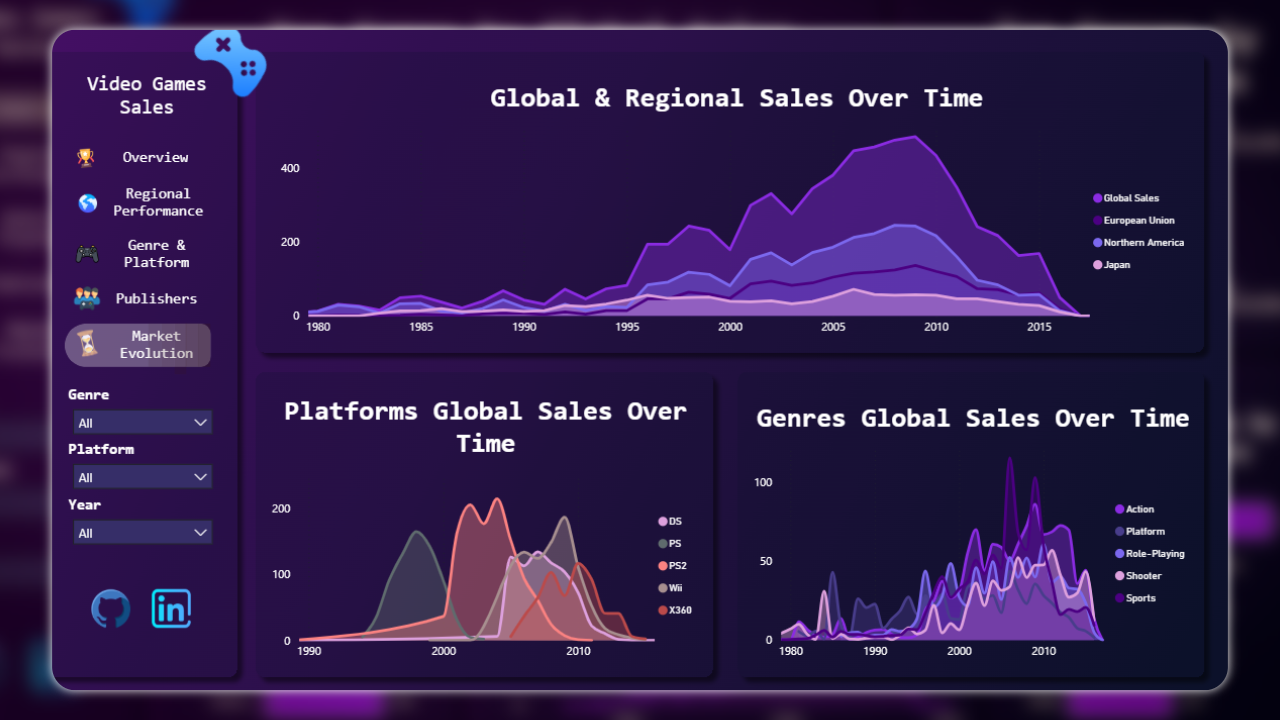

The page's visual inventory and layout, read from the dashboard file:
{"tool":"powerbi","page":{"name":"Market Evolution","canvas":[1280,720],"ordinal":4},"visuals":[{"type":"shape","box":[10.3,25.8,188.4,94.2],"z":4000},{"type":"image","box":[11,109.1,54.2,64.5],"z":5000},{"type":"shape","box":[33.5,301.9,161.3,80],"z":5500},{"type":"image","box":[9,309.7,61.9,61.9],"z":5750},{"type":"shape","box":[32.9,109.1,161.3,60.6],"z":6000},{"type":"shape","box":[0,304.5,188.4,77.4],"z":7000},{"type":"shape","box":[144.5,304.5,43.9,77.4],"z":8000},{"type":"shape","box":[130.9,304.5,43.6,77.5],"z":9000},{"type":"shape","box":[118.7,304.5,42.6,85.2],"z":10000},{"type":"shape","box":[104.5,304.5,43.9,77.4],"z":11000},{"type":"shape","box":[90.3,304.5,43.9,77.4],"z":12000},{"type":"image","box":[14.2,165.2,51.6,50.3],"z":14000},{"type":"shape","box":[33.5,149.7,165.2,78.7],"z":15000},{"type":"shape","box":[33.5,205.2,161.3,77.4],"z":16000},{"type":"shape","box":[33.5,262.2,161.5,61.1],"z":17000},{"type":"image","box":[11.6,215.5,55.5,59.4],"z":19000},{"type":"image","box":[10.3,261.9,59.4,60.6],"z":20000},{"type":"slicer","title":"Genre","fields":{"Values":["vgsales.Genre"]},"box":[14.2,386.7,165.7,58.4],"z":22000},{"type":"slicer","title":"Platform","fields":{"Values":["vgsales.Platform"]},"box":[14.2,445.1,165.7,60],"z":23000},{"type":"slicer","title":"Year","fields":{"Values":["vgsales.Year"]},"box":[14.2,505.1,165.7,60],"z":24000},{"type":"image","box":[88.4,591.4,84,72],"z":25000},{"type":"image","box":[25.1,591.4,80.8,72],"z":26000},{"type":"actionButton","box":[16.8,165.2,165.2,50.3],"z":27000},{"type":"actionButton","box":[14.2,219.4,165.2,50.3],"z":28000},{"type":"actionButton","box":[12.9,267.1,165.2,50.3],"z":29000},{"type":"actionButton","box":[21.8,115.7,164.8,50.2],"z":30000},{"type":"areaChart","title":"Global & Regional Sales Over Time","fields":{"Category":["vgsales.Year"],"Y":["vgsales.Total Global Sales","Sum(vgsales.European Union Saels)","Sum(vgsales.Northern America Sales)","Sum(vgsales.Japan Sales)"]},"box":[233.5,43.6,1015.9,307.7],"z":30001},{"type":"areaChart","title":"Genres Global Sales Over Time","fields":{"Category":["vgsales.Year"],"Y":["vgsales.Total Global Sales"],"Series":["vgsales.Genre"]},"box":[744.2,389.6,505.2,312.1],"z":30002},{"type":"areaChart","title":"Platforms Global Sales Over Time","fields":{"Category":["vgsales.Year"],"Y":["vgsales.Total Global Sales"],"Series":["vgsales.Platform"]},"box":[223.2,381.9,492.9,320],"z":30003}]}

Visuals, with their boxes in screenshot pixels (x1, y1, x2, y2), scaled from the page's 1280x720 canvas onto the 1280x720 screenshot:
shape: [10,26,199,120]
image: [11,109,65,174]
shape: [34,302,195,382]
image: [9,310,71,372]
shape: [33,109,194,170]
shape: [0,304,188,382]
shape: [144,304,188,382]
shape: [131,304,174,382]
shape: [119,304,161,390]
shape: [104,304,148,382]
shape: [90,304,134,382]
image: [14,165,66,216]
shape: [34,150,199,228]
shape: [34,205,195,283]
shape: [34,262,195,323]
image: [12,216,67,275]
image: [10,262,70,322]
"Genre" slicer: [14,387,180,445]
"Platform" slicer: [14,445,180,505]
"Year" slicer: [14,505,180,565]
image: [88,591,172,663]
image: [25,591,106,663]
actionButton: [17,165,182,216]
actionButton: [14,219,179,270]
actionButton: [13,267,178,317]
actionButton: [22,116,187,166]
"Global & Regional Sales Over Time" areaChart: [234,44,1249,351]
"Genres Global Sales Over Time" areaChart: [744,390,1249,702]
"Platforms Global Sales Over Time" areaChart: [223,382,716,702]
